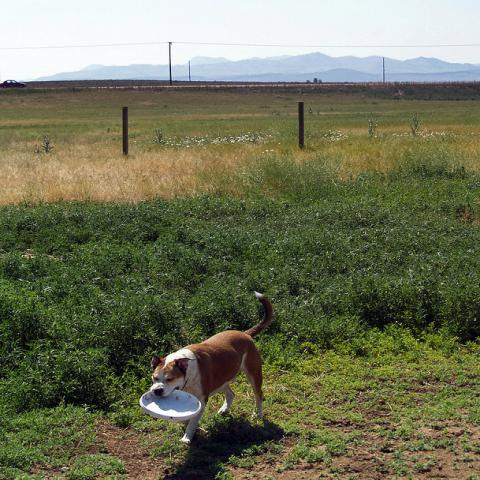car: (0, 80, 26, 89)
